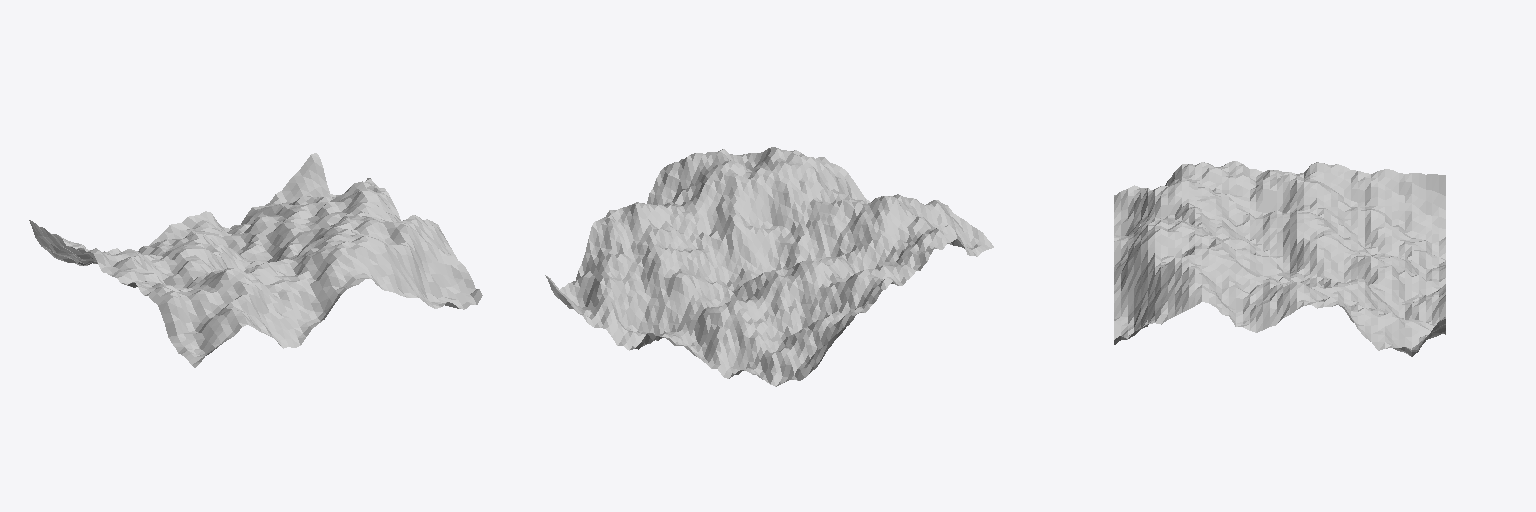
File: mountains.obj
3 renders of one model, left to right at view 1: azimuth 30°, elevation 25°; view 2: azimuth 150°, elevation 25°; view 3: azimuth 270°, elevation 25°, orthographic.
Visible parts, largest first — view 1: mountains.005; view 2: mountains.005; view 3: mountains.005.
Boxes of the visible parts, <box> form: mountains.005: <box>29,153,482,367</box>; mountains.005: <box>545,147,993,386</box>; mountains.005: <box>1114,161,1445,356</box>.
Bounding box in the file's own units: 2 × 0.6874 × 2.